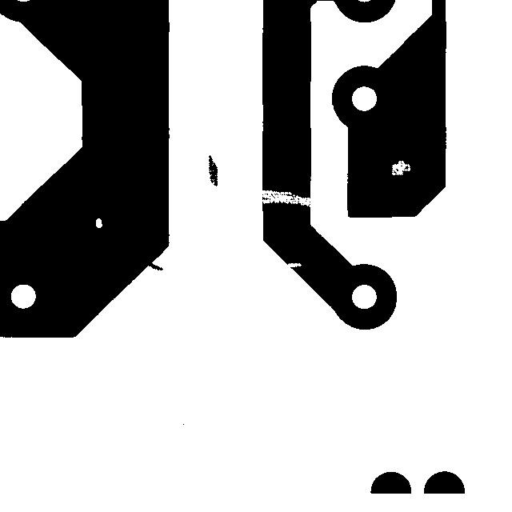copper: (201, 147, 225, 194)
mousebite: (277, 255, 309, 274)
open: (241, 182, 328, 215)
pin-hole: (384, 153, 418, 182), (88, 210, 110, 235)
spur: (137, 255, 170, 278)
